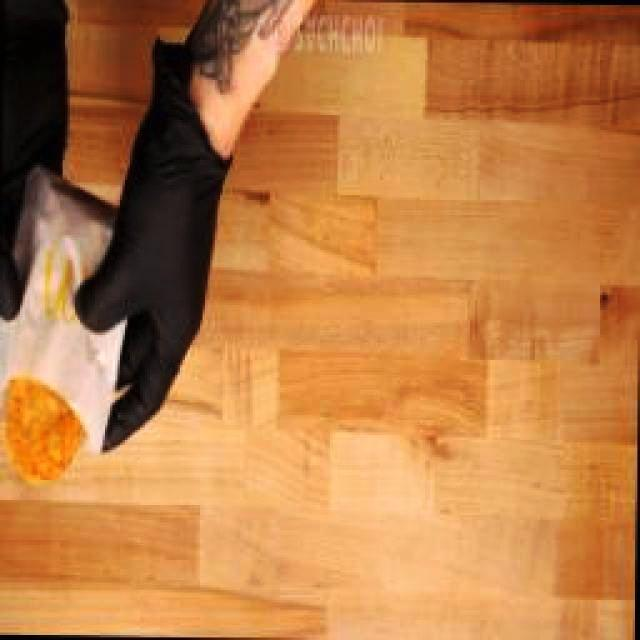Hashbrown: (4, 377, 84, 482)
